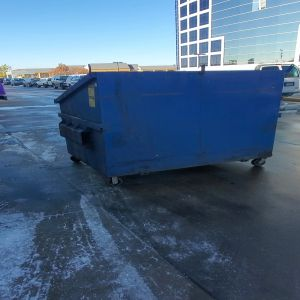Dumpster: (56, 72, 282, 184)
